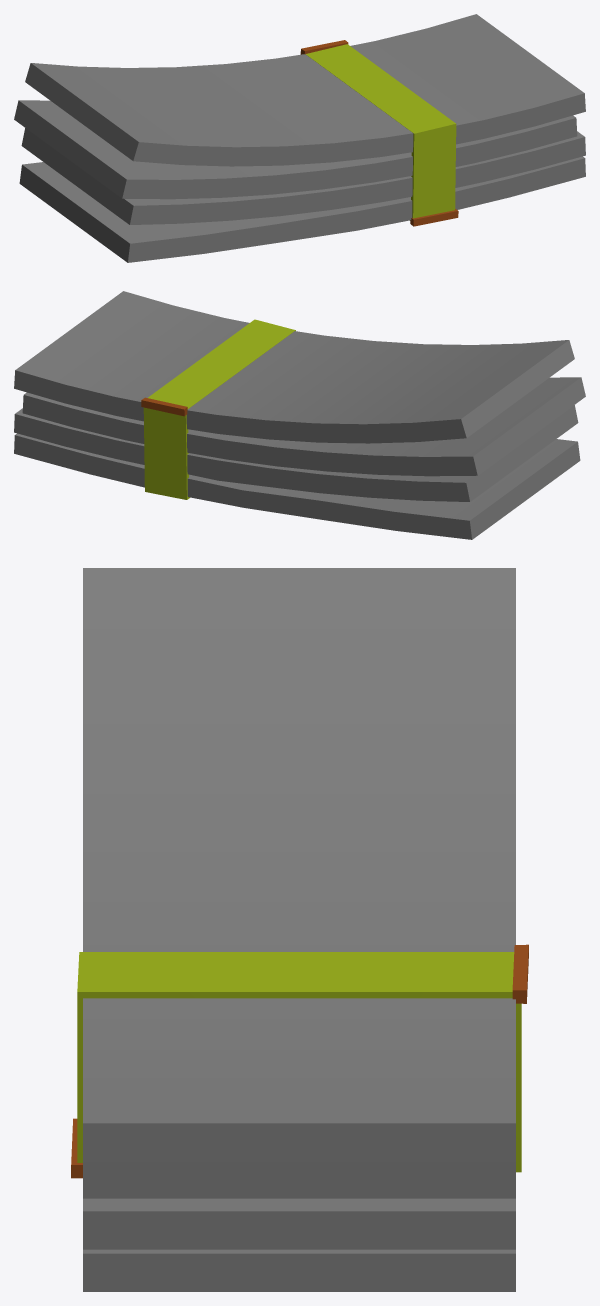
The model's file is Dolar (1).FBX.
3 renders of one model, top to bottom at view 1: azimuth 30°, elevation 25°; view 2: azimuth 150°, elevation 25°; view 3: azimuth 270°, elevation 25°, orthographic. The views are drawn at different scales.
Visible parts, largest first — view 1: Dolars; view 2: Dolars; view 3: Dolars.
Boxes of the visible parts, <box> form: Dolars: <box>14,14,585,262</box>; Dolars: <box>14,291,585,539</box>; Dolars: <box>71,568,528,1291</box>.
Bounding box in the file's own units: 51.08 × 15.86 × 21.83.
